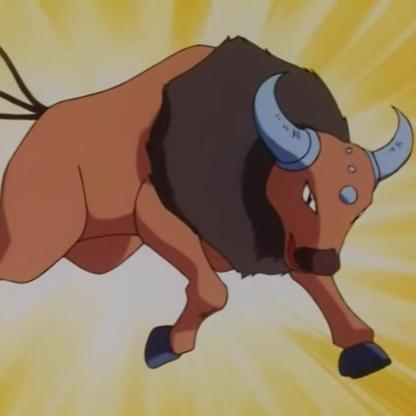Tauros: (1, 0, 415, 416)
